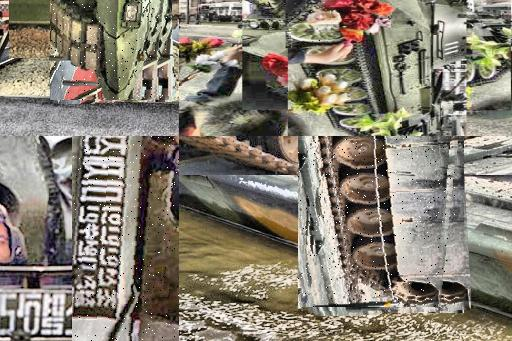tanks: (322, 137, 454, 308), (305, 1, 467, 137), (73, 137, 180, 341), (51, 1, 167, 101), (288, 1, 330, 49), (328, 1, 330, 3)
